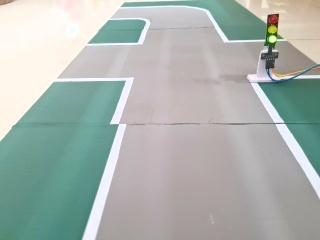green: (258, 8, 284, 52)
